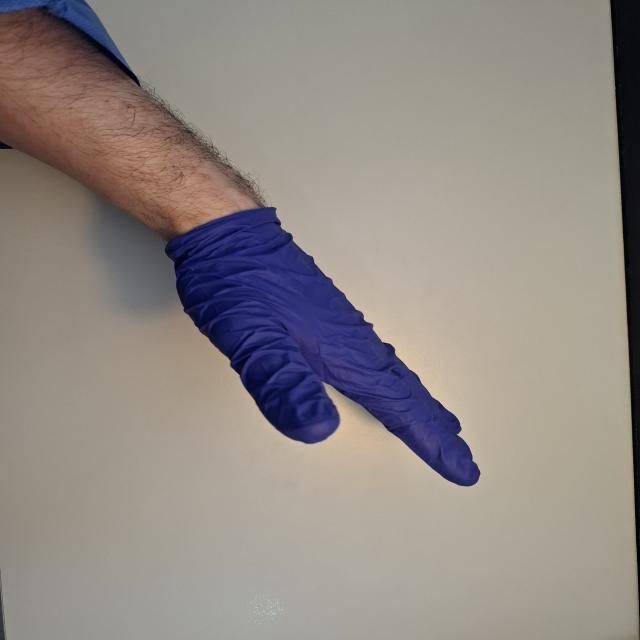glove_on: (161, 200, 487, 490)
